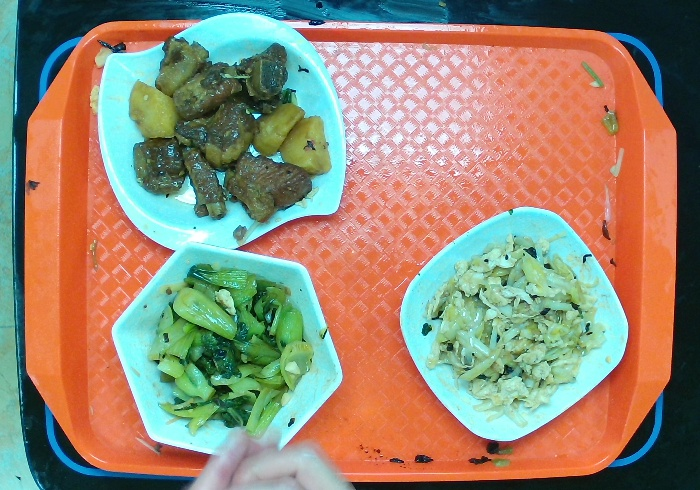RJxy-Liu_Jiao_Wan: (106, 237, 348, 464)
RJxy-Shuang_Jiao_Pan: (93, 9, 350, 259)
RJxy-Si_Fang_Wan: (394, 204, 630, 444)
